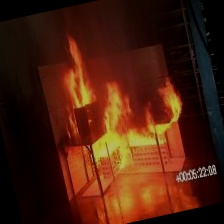fire: (23, 0, 197, 211)
